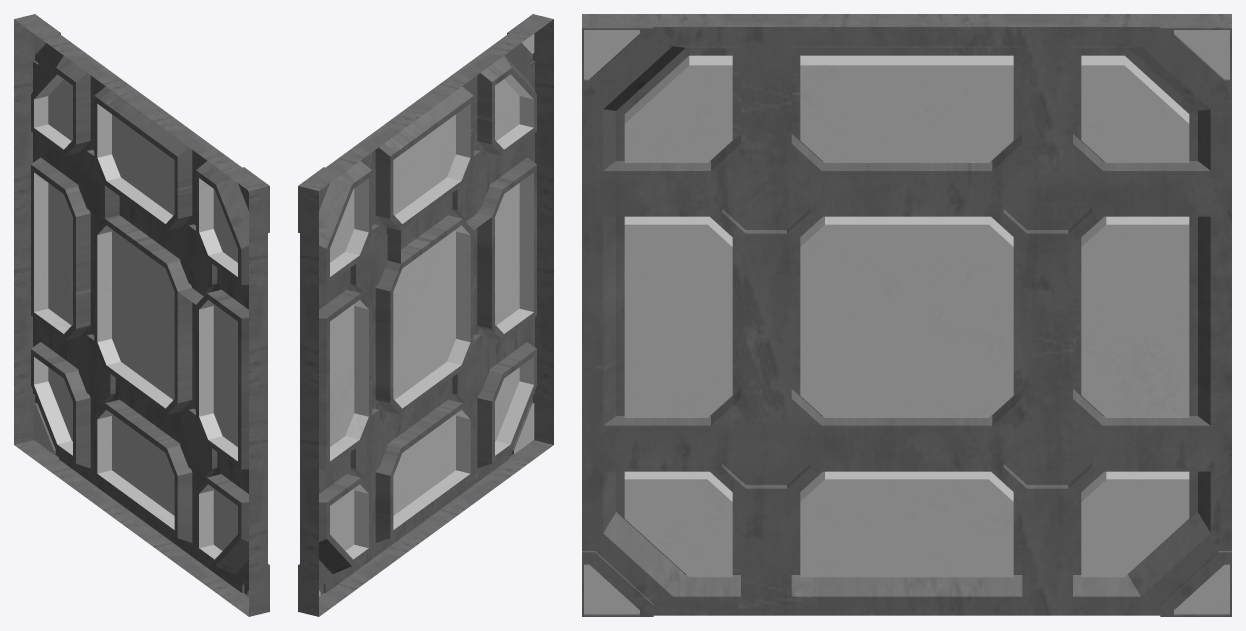
Rendered from Wall 2.fbx.
3 views of the same model, side by side, from view 1: azimuth 30°, elevation 25°; view 2: azimuth 150°, elevation 25°; view 3: azimuth 270°, elevation 25° (orthographic). The views are drawn at different scales.
Visible parts, largest first — view 1: Plane.004; view 2: Plane.004; view 3: Plane.004.
Boxes of the visible parts, x1=… form: Plane.004: x1=14, y1=14, x2=269, y2=616; Plane.004: x1=298, y1=14, x2=553, y2=616; Plane.004: x1=582, y1=14, x2=1231, y2=616.
Size of the model in its own units: 10.33 by 200 by 200.
Materials: 1 (1 with a texture image).
